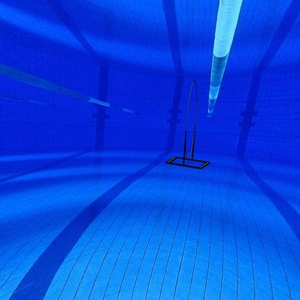circle: (163, 77, 212, 171)
